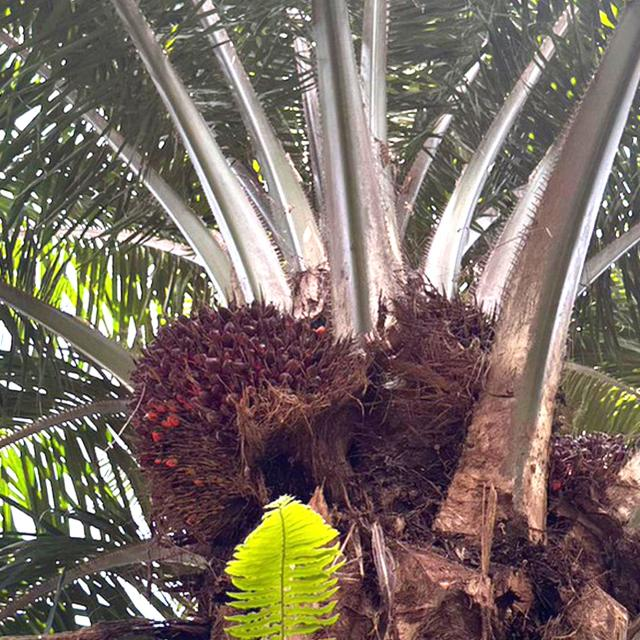ripe: (124, 292, 369, 525), (380, 268, 504, 376), (542, 419, 630, 514)
